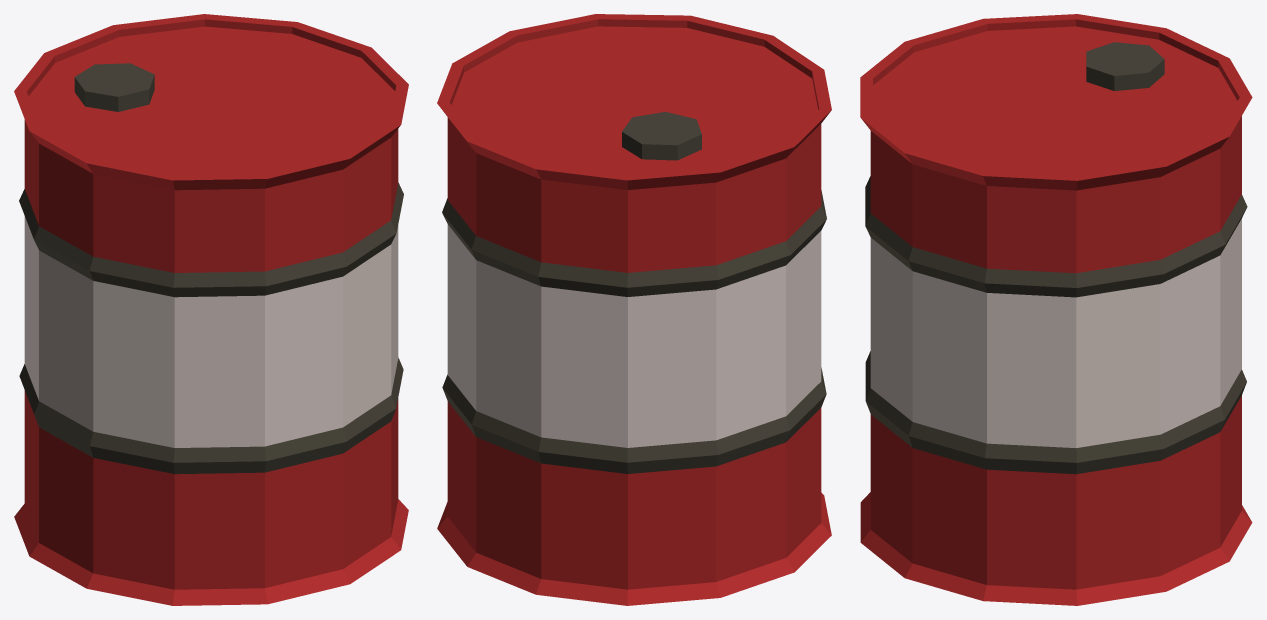
The model's file is explosive_barrel.glb.
3 renders of one model, left to right at view 1: azimuth 30°, elevation 25°; view 2: azimuth 150°, elevation 25°; view 3: azimuth 270°, elevation 25°, orthographic.
Visible parts, largest first — view 1: Cylinder; view 2: Cylinder; view 3: Cylinder.
Part boxes in pixels (x1,y1,x2,y2): Cylinder: (14,14,408,605); Cylinder: (437,14,831,605); Cylinder: (860,14,1252,605).
Bounding box in the file's own units: 2.1 × 2.54 × 2.08.
